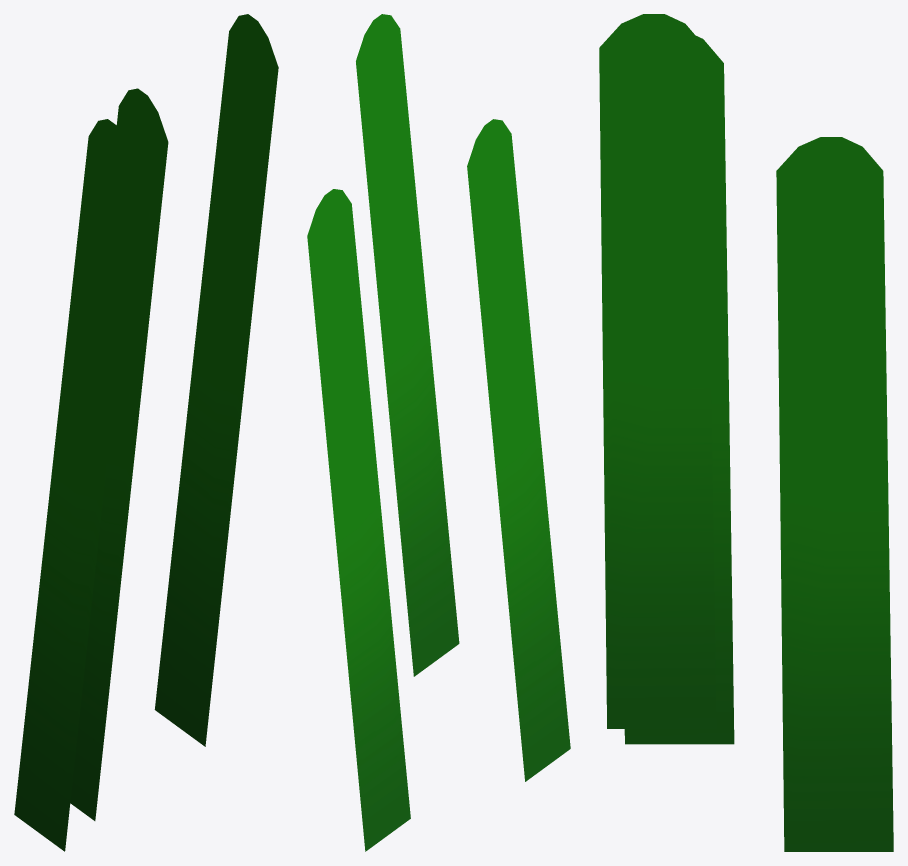
Rendered from grass.glb.
3 views of the same model, side by side, from view 1: azimuth 30°, elevation 25°; view 2: azimuth 150°, elevation 25°; view 3: azimuth 270°, elevation 25° (orthographic). The views are drawn at different scales.
Visible parts, largest first — view 1: grass.002, grass, grass.001; view 2: grass.002, grass, grass.001; view 3: grass.002, grass.001, grass.
Part boxes in pixels (x1,y1,x2,y2): grass.002: (154,14,278,746); grass: (14,119,138,851); grass.001: (70,88,168,820); grass.002: (356,14,459,676); grass: (467,119,570,781); grass.001: (307,189,410,851); grass.002: (599,14,716,728); grass.001: (776,137,893,851); grass: (624,36,734,744).
Size of the model in its own units: 0.2938 by 1.15 by 0.3445.
3 materials, 3 textured.
